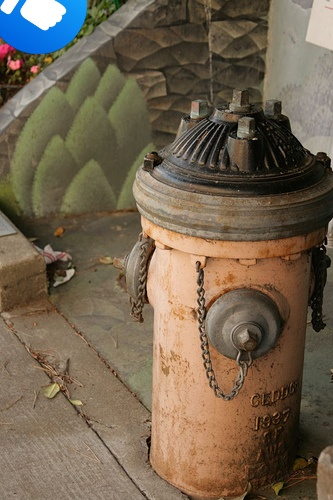like: (0, 0, 87, 54)
